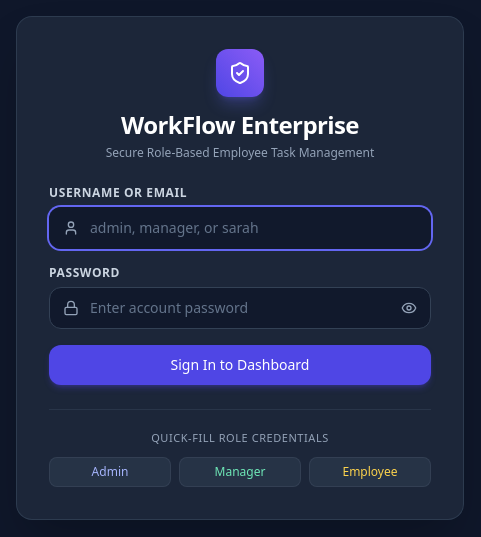
Test: Authentication & Authorization Frontend Suite › 4. populates credentials on quick-fill button click
Click the button "Manager": {"x": 240, "y": 472} 179,457 -> 301,487
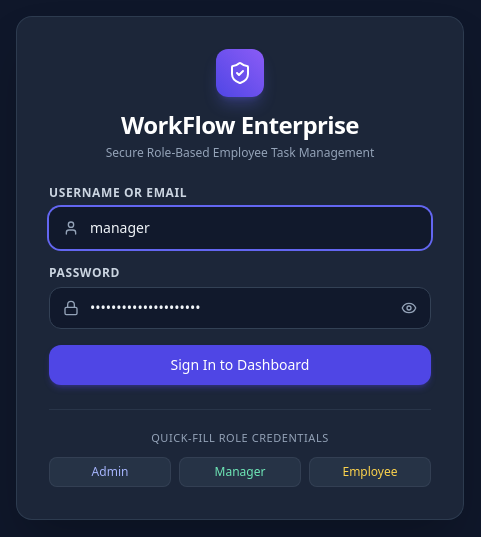
Result: the field with placeholder "admin, manager, or sarah" holds "manager" at 49,207 -> 431,249
Result: the password field with placeholder "Enter account password" holds "Manager@Workflow2026!" at 49,287 -> 431,329
